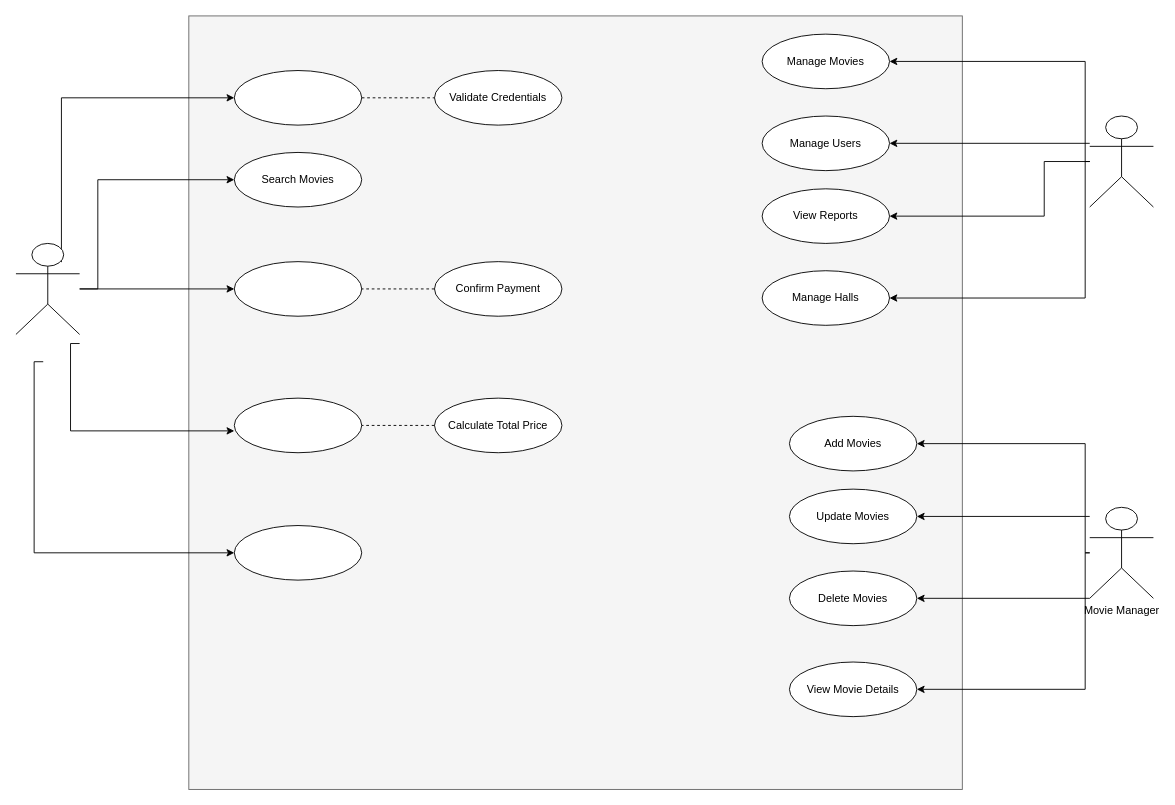
This 1175x805 diagram has some shape labels left out. Here are the shapes that lost their labels. From the top down, the centre of each, then its label:
the point at 297,97: Register / Login
the point at 1121,161: Admin
the point at 47,288: User
the point at 297,288: Get Ticket
the point at 297,425: Pay Online
the point at 297,552: Choose Seat
